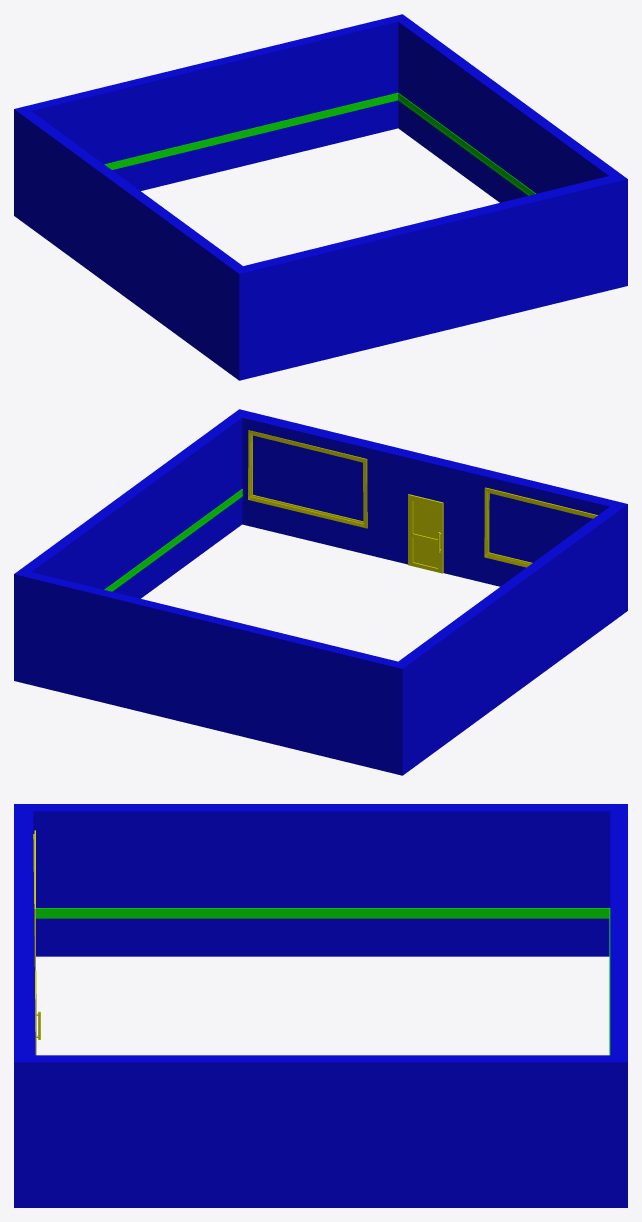
File: pared,puerta y ventana .fbx
3 renders of one model, top to bottom at view 1: azimuth 30°, elevation 25°; view 2: azimuth 150°, elevation 25°; view 3: azimuth 270°, elevation 25°, orthographic. The views are drawn at different scales.
Parts seen in each view (by area): view 1: paredes, pCube7, pCube5, pCube6; view 2: paredes, puerta3, marco_ventana_izquierda, marco_ventana_izquierda3, marco_ventana_izquierda1, pCube7, marco_ventana_izquierda4; view 3: paredes, pCube7, pCube5, pCube6.
Boxes of the visible parts, box(x1,y1,x2,y2) form: paredes: box(14, 14, 627, 380); pCube7: box(107, 95, 533, 195); pCube5: box(104, 92, 535, 194); pCube6: box(111, 99, 529, 195); paredes: box(14, 409, 627, 775); puerta3: box(408, 494, 443, 573); marco_ventana_izquierda: box(248, 430, 367, 528); marco_ventana_izquierda3: box(484, 487, 597, 567); marco_ventana_izquierda1: box(251, 433, 363, 523); pCube7: box(106, 491, 242, 591); marco_ventana_izquierda4: box(487, 491, 594, 564); paredes: box(14, 804, 627, 1207); pCube7: box(36, 910, 609, 916); pCube5: box(36, 908, 610, 1055); pCube6: box(36, 916, 609, 918).
Size of the model in its own units: 199 by 52.31 by 200.
